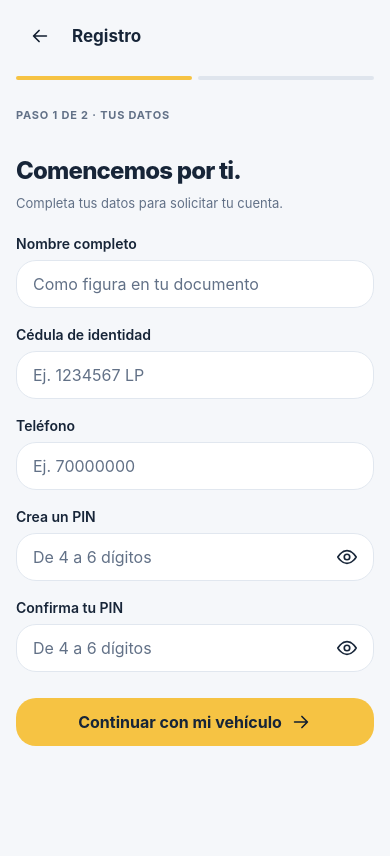
Test: el botón volver a mis datos regresa al paso 1 conservando los datos escritos
Type "Ana Pérez" into the field named "Nombre completo" at (195, 284), box x1=16 y1=260 x2=374 y2=308
Type "1234567" into the field named "Cédula de identidad" at (195, 375), box x1=16 y1=351 x2=374 y2=399
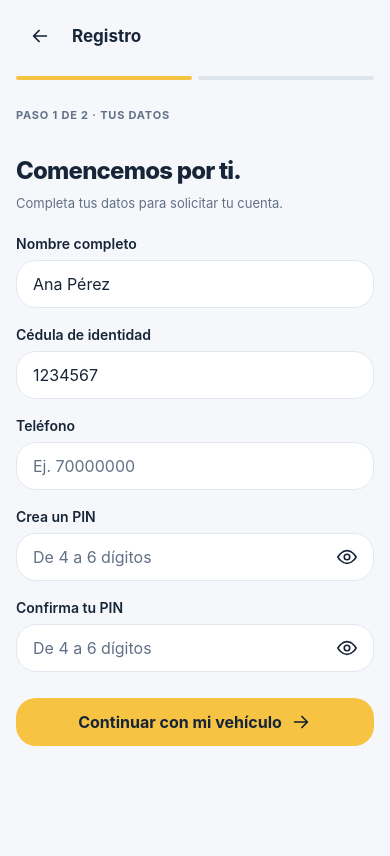
Type "70000000" into the field named "Teléfono" at (195, 466), box x1=16 y1=442 x2=374 y2=490
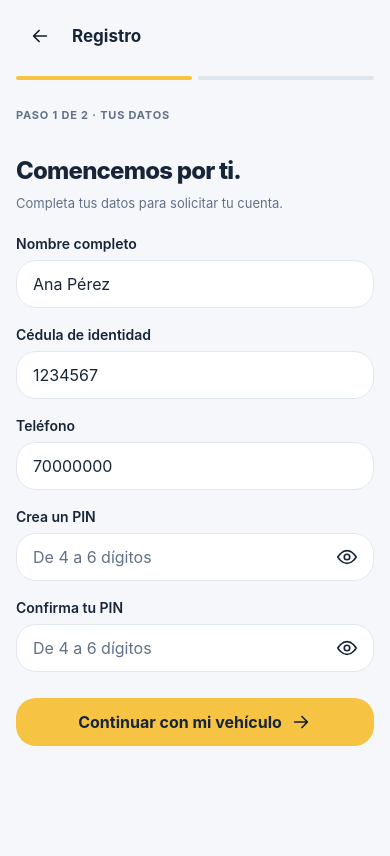
Type "0012" into the password field named "Crea un PIN" at (195, 557), box x1=16 y1=533 x2=374 y2=581
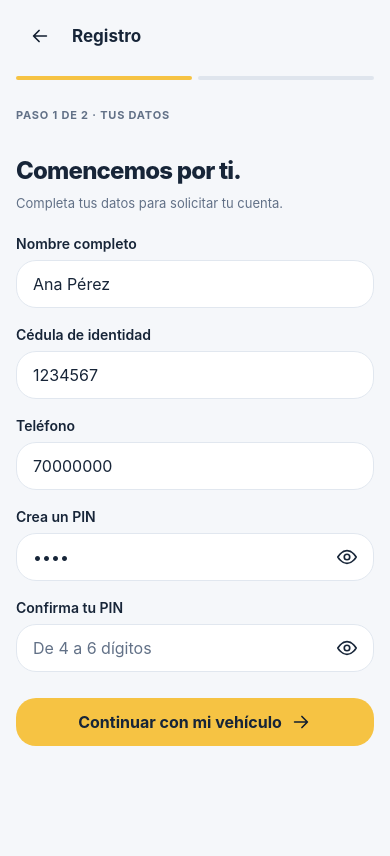
Type "0012" into the password field named "Confirma tu PIN" at (195, 648), box x1=16 y1=624 x2=374 y2=672
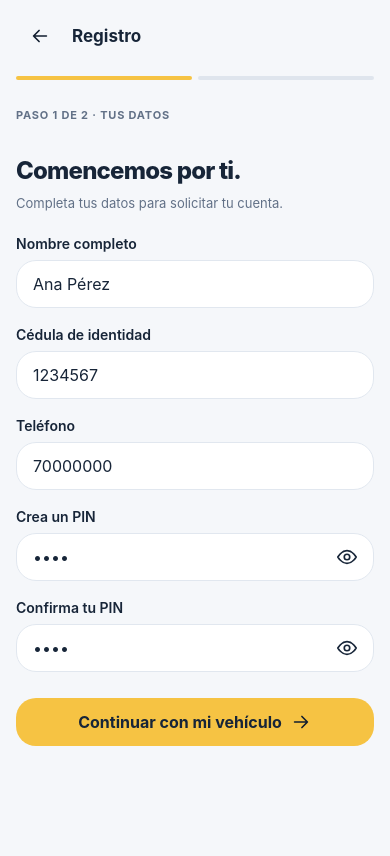
Click the button "Continuar con mi vehículo" at (195, 722), box x1=16 y1=698 x2=374 y2=746
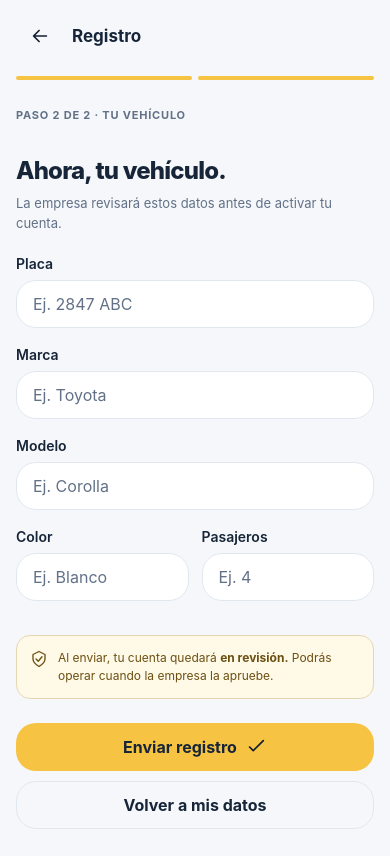
Check: the field named "Placa" is shown, box x1=16 y1=280 x2=374 y2=328
Click the button "Volver a mis datos" at (195, 805), box x1=16 y1=781 x2=374 y2=829
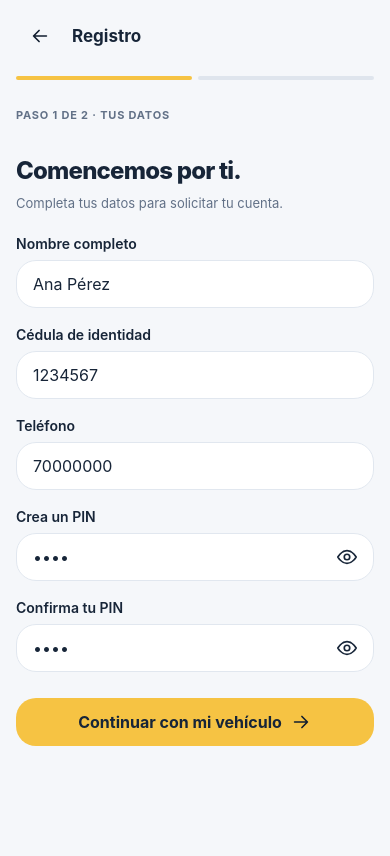
Check: the text labelled "Placa" is gone
